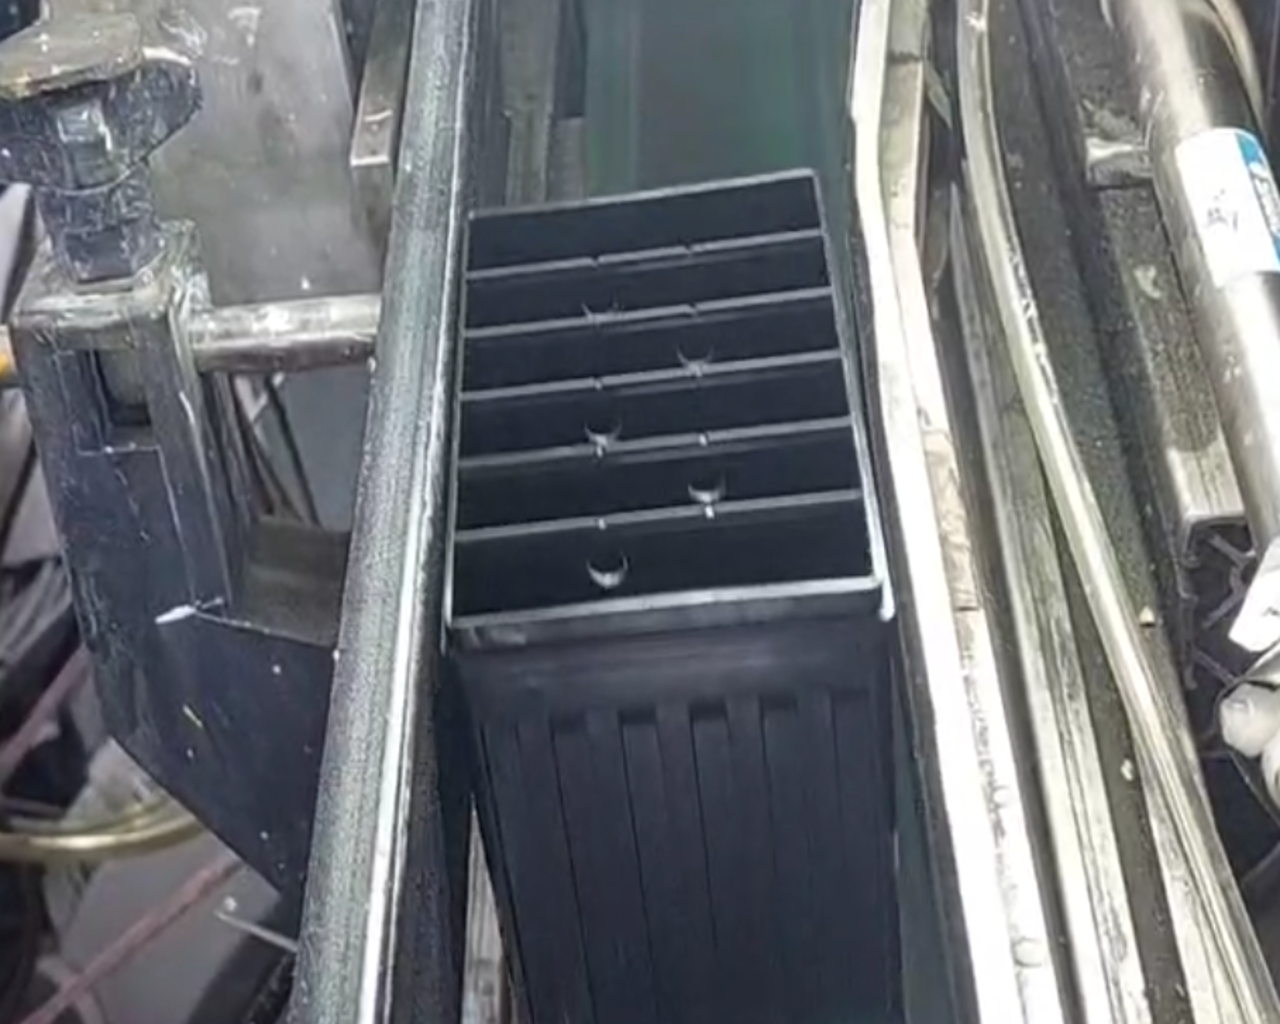box: (416, 153, 916, 681)
round: (574, 539, 642, 593), (569, 272, 635, 324), (677, 454, 738, 508), (666, 320, 728, 373), (573, 393, 633, 447)
